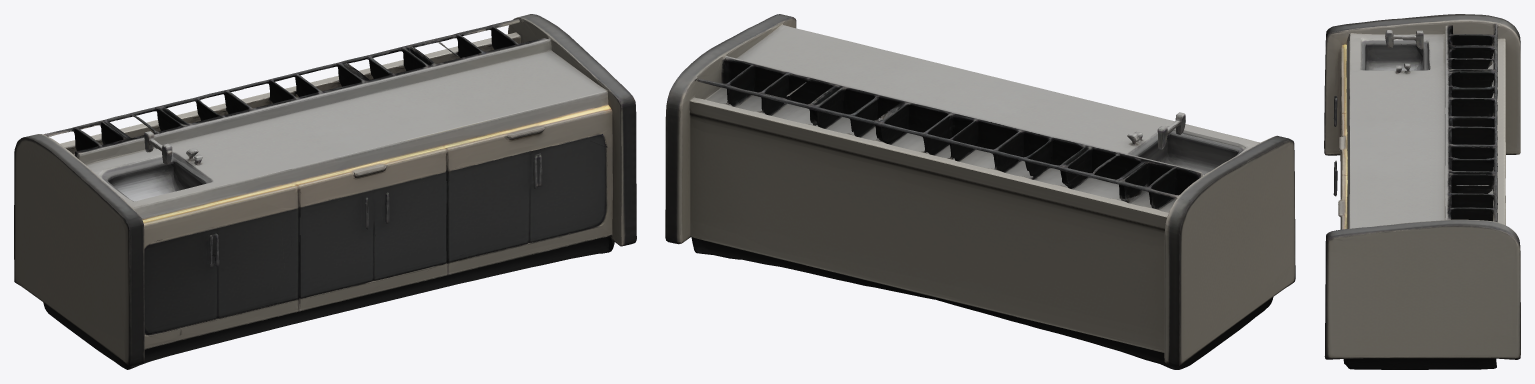
Rendered from potting_bench.glb.
The picture shows the model from 3 angles, left to right: view 1: azimuth 30°, elevation 25°; view 2: azimuth 150°, elevation 25°; view 3: azimuth 270°, elevation 25°; orthographic projection. The views are drawn at different scales.
Visible parts, largest first — view 1: world; view 2: world; view 3: world.
Boxes of the visible parts, x1,y1,x2,y2 form: world: (14,14,636,369); world: (665,14,1295,369); world: (1324,14,1520,369).
Bounding box in the file's own units: 0.9775 × 0.3548 × 0.3841.
Materials: 1 (1 with a texture image).
